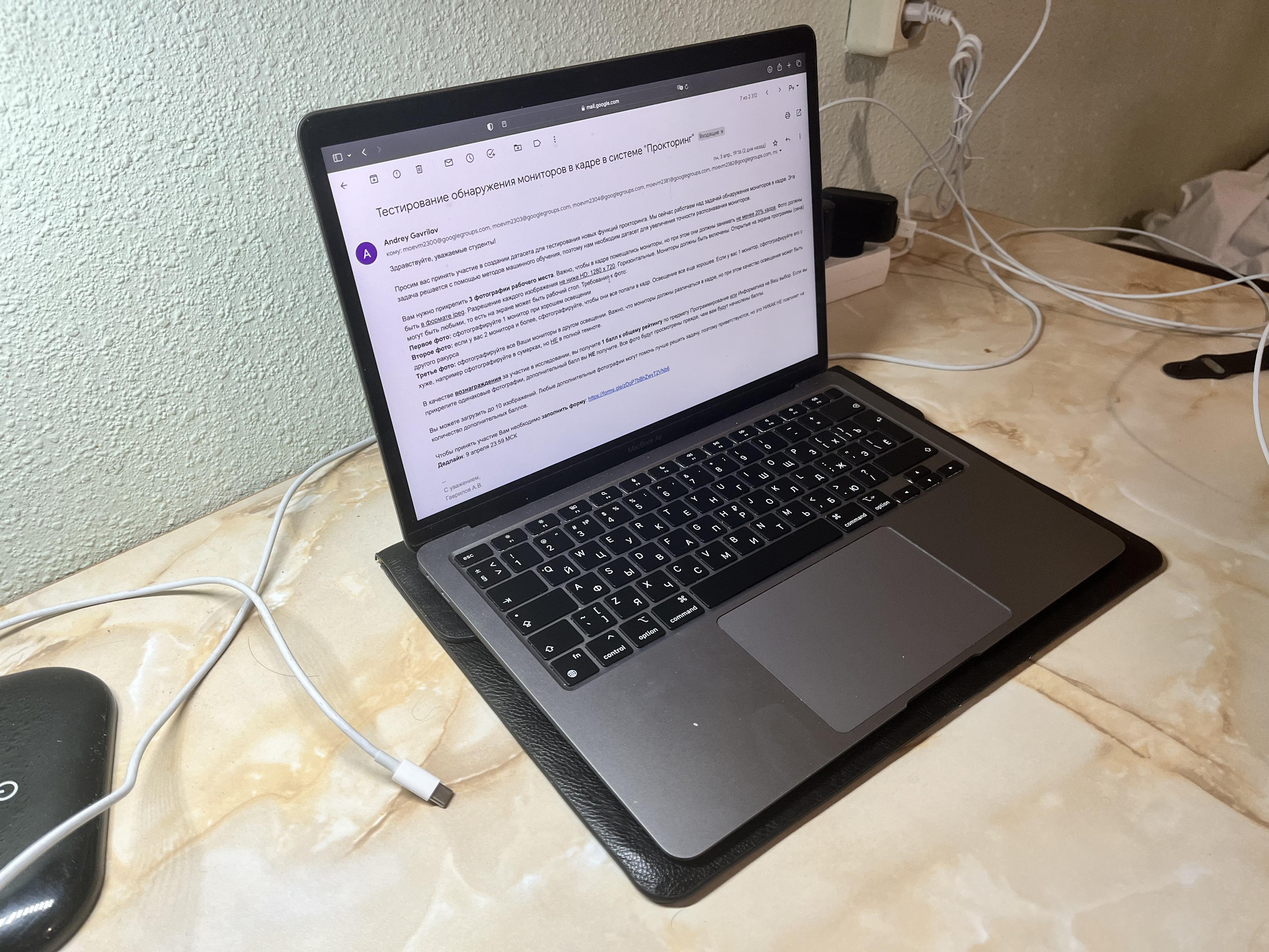monitor: (296, 19, 836, 552)
